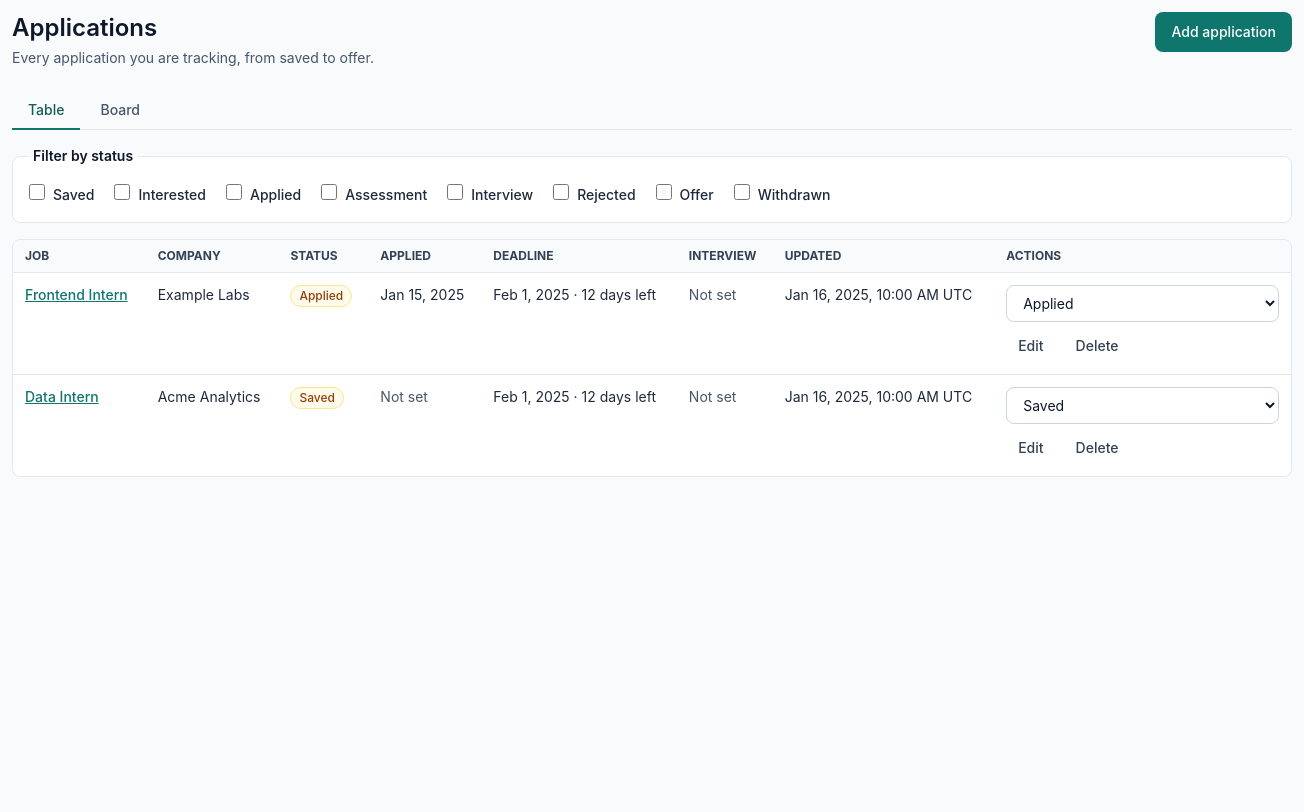
ApplicationsPage › moves an application with the row status select
Select "Interview" in the dropdown named "Status for Frontend Intern" in the row of "Frontend Intern": (1143, 304) [1006,285,1279,322]
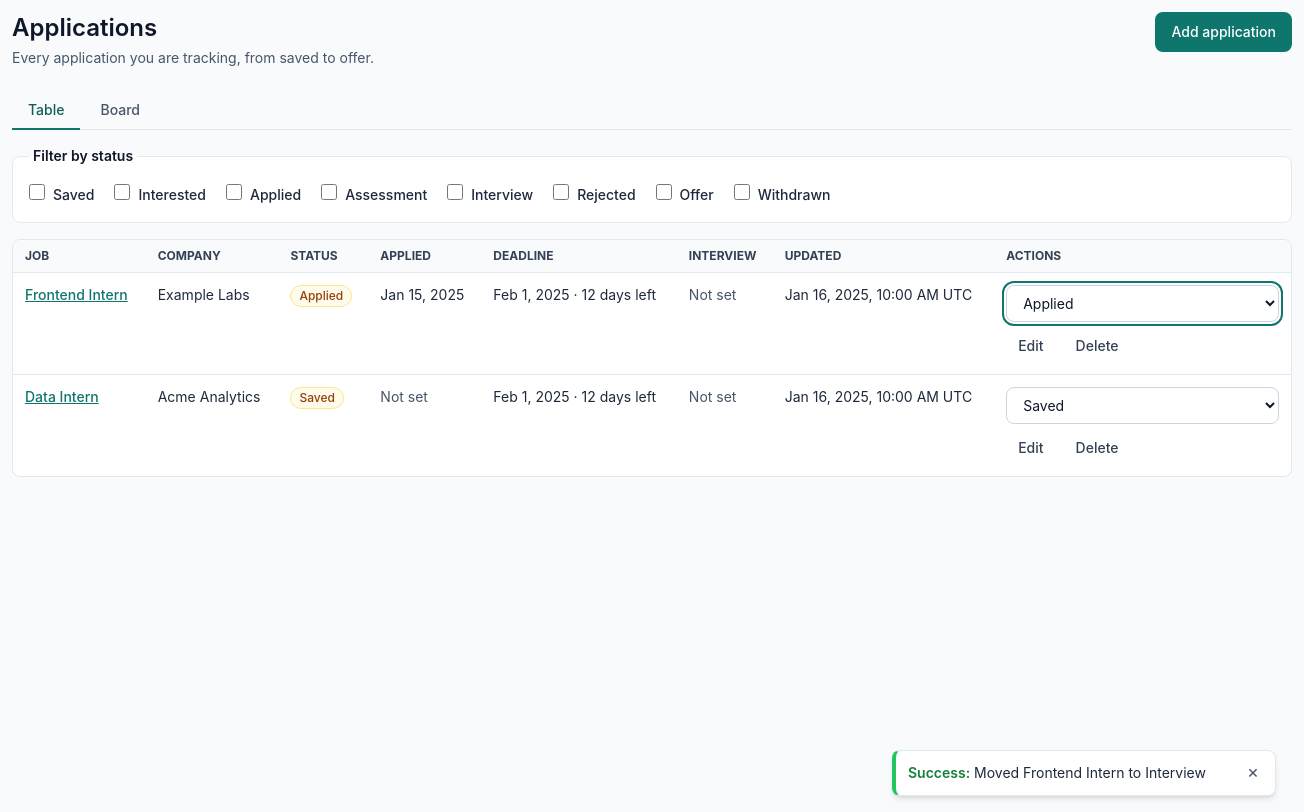
Expected: the text "Moved Frontend Intern to Interview" is shown, [974,764,1206,781]
